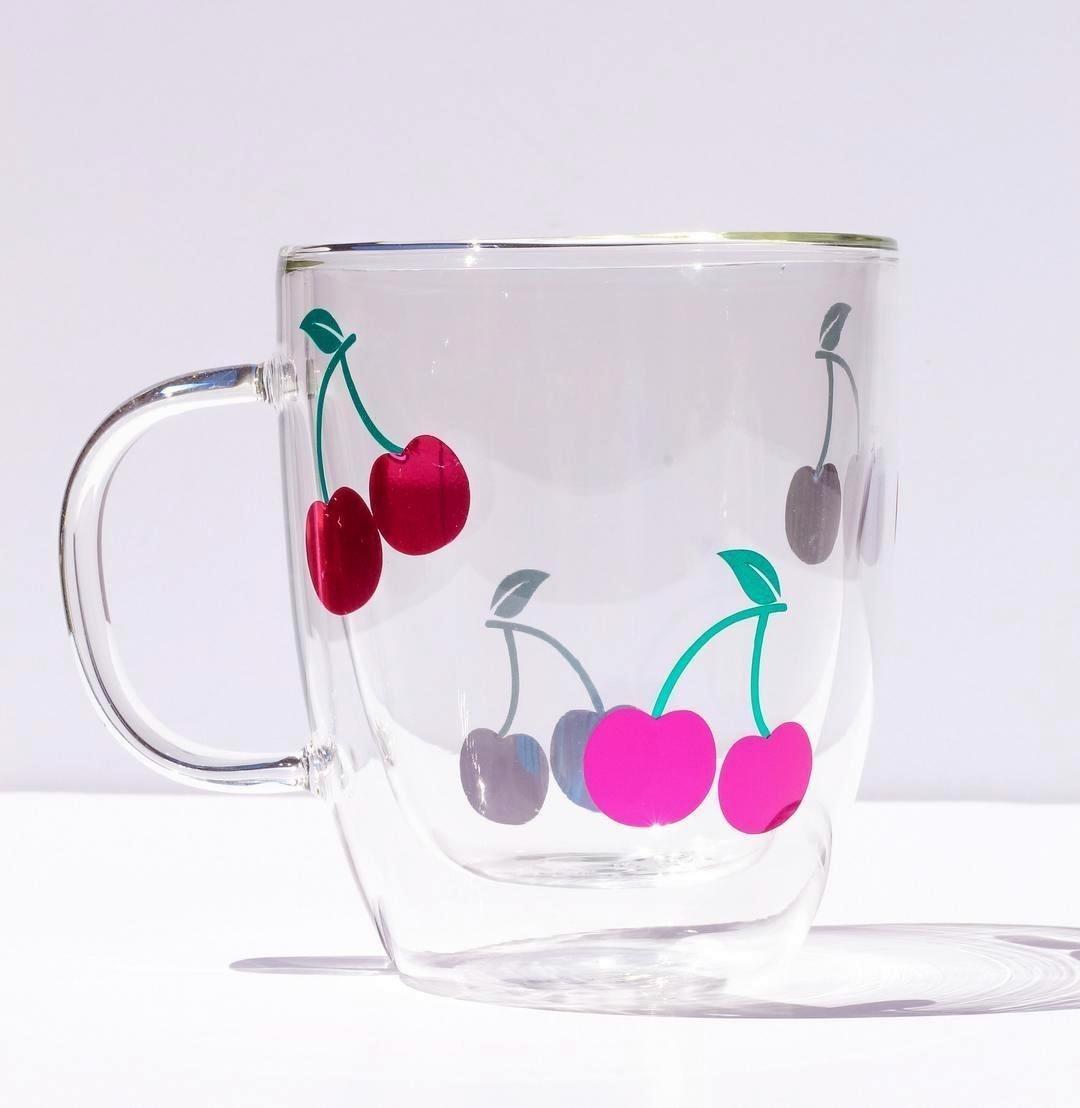glass-mug: (51, 216, 912, 1009)
